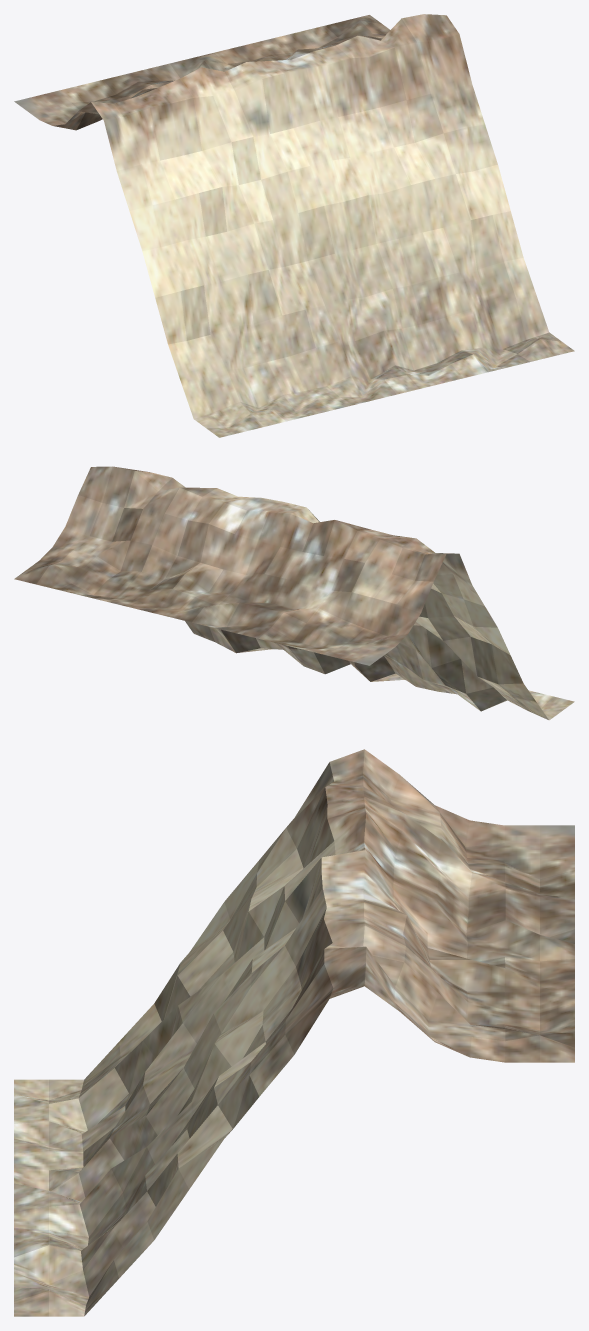
Rendered from CRATERA_GRANDE_BORDA.glb.
3 renders of one model, top to bottom at view 1: azimuth 30°, elevation 25°; view 2: azimuth 150°, elevation 25°; view 3: azimuth 270°, elevation 25°, orthographic. The views are drawn at different scales.
Parts seen in each view (by area): view 1: CRATERA_GRANDE_NORTE_Plano; view 2: CRATERA_GRANDE_NORTE_Plano; view 3: CRATERA_GRANDE_NORTE_Plano.
Boxes of the visible parts, left/top/right/bottom form: CRATERA_GRANDE_NORTE_Plano: left=14, top=14, right=574, bottom=437; CRATERA_GRANDE_NORTE_Plano: left=14, top=466, right=574, bottom=720; CRATERA_GRANDE_NORTE_Plano: left=14, top=749, right=574, bottom=1316.
Size of the model in its own units: 2 by 1.39 by 2.
1 material, 1 textured.
